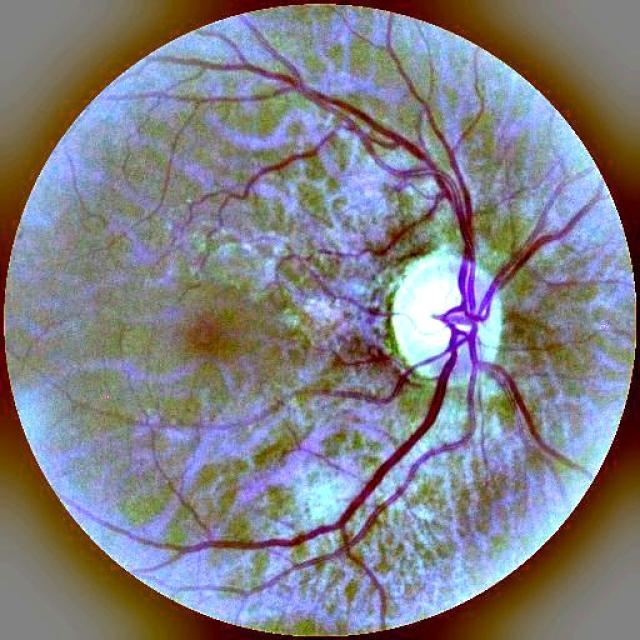Macula: (167, 303, 253, 379)
Nerves: (237, 79, 594, 554)
Optic Disk: (361, 226, 531, 414)
